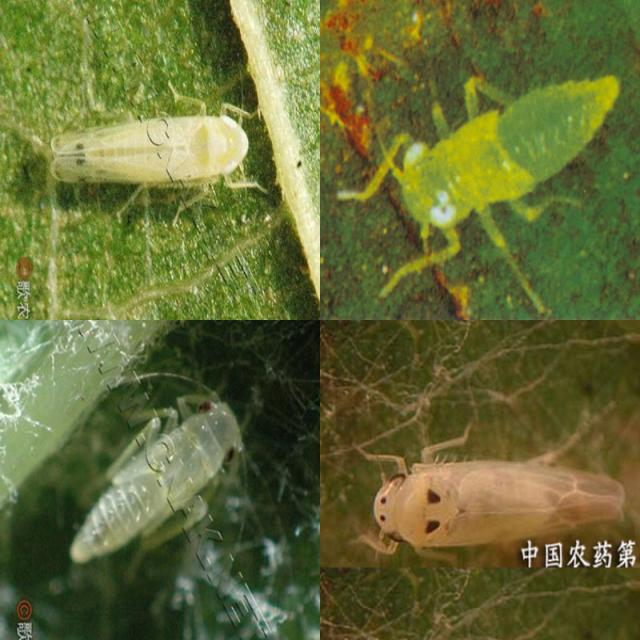Yechan: (353, 438, 627, 553), (51, 98, 261, 211)
